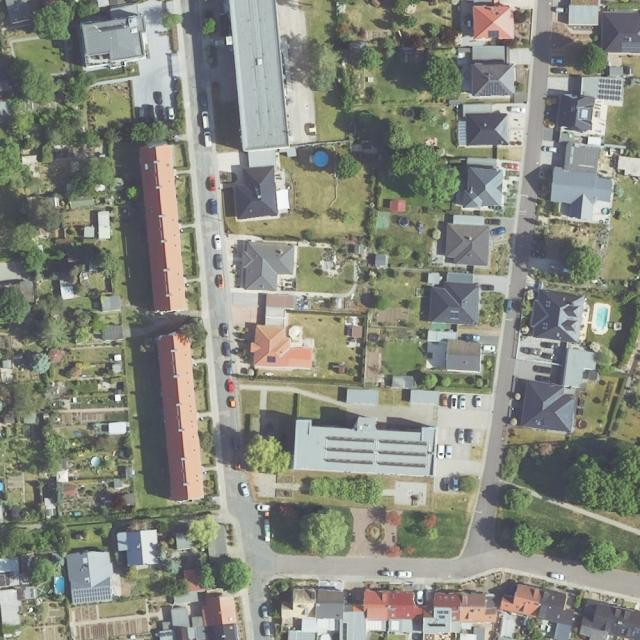PV: (73, 588, 112, 604), (597, 78, 622, 101), (478, 82, 509, 96), (622, 41, 640, 53), (0, 572, 14, 587), (436, 610, 449, 619), (343, 623, 347, 640), (633, 627, 640, 634)
ST: (450, 310, 460, 319), (267, 355, 276, 362), (489, 31, 499, 37)
